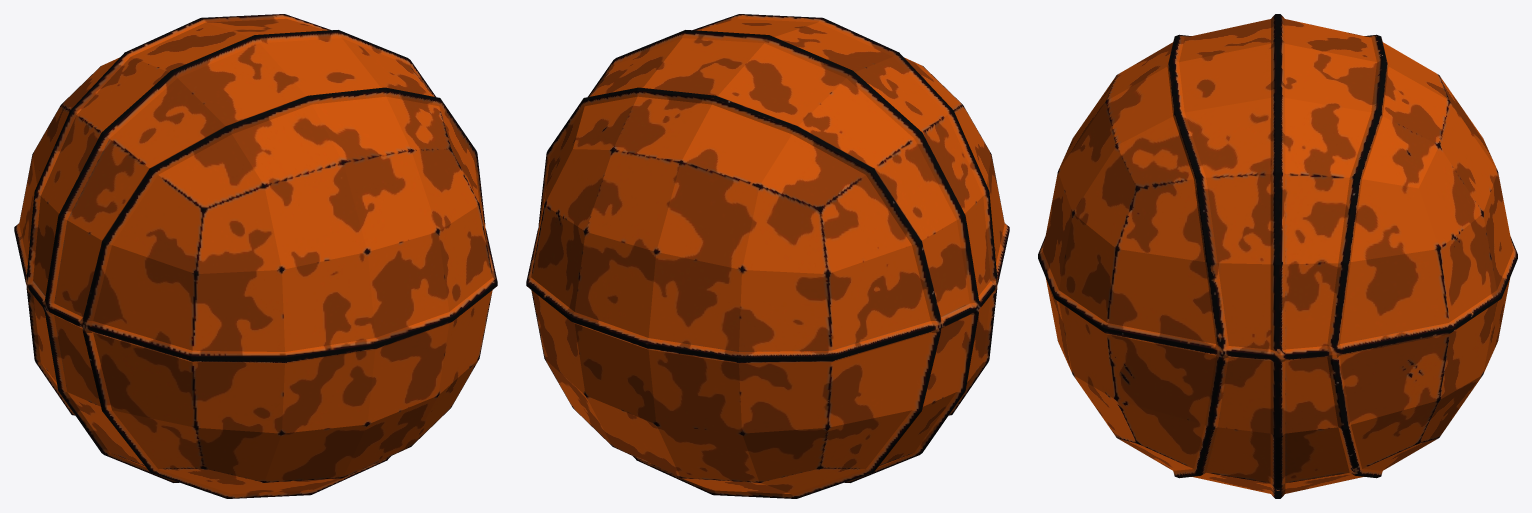
The model's file is Basketball.glb.
3 views of the same model, side by side, from view 1: azimuth 30°, elevation 25°; view 2: azimuth 150°, elevation 25°; view 3: azimuth 270°, elevation 25° (orthographic).
Visible parts, largest first — view 1: Low poly ball; view 2: Low poly ball; view 3: Low poly ball.
Part boxes in pixels (x1,y1,x2,y2): Low poly ball: (14,14,497,498); Low poly ball: (526,14,1009,498); Low poly ball: (1038,14,1517,498).
Bounding box in the file's own units: 0.1361 × 0.1365 × 0.1367.
1 material, 1 textured.
